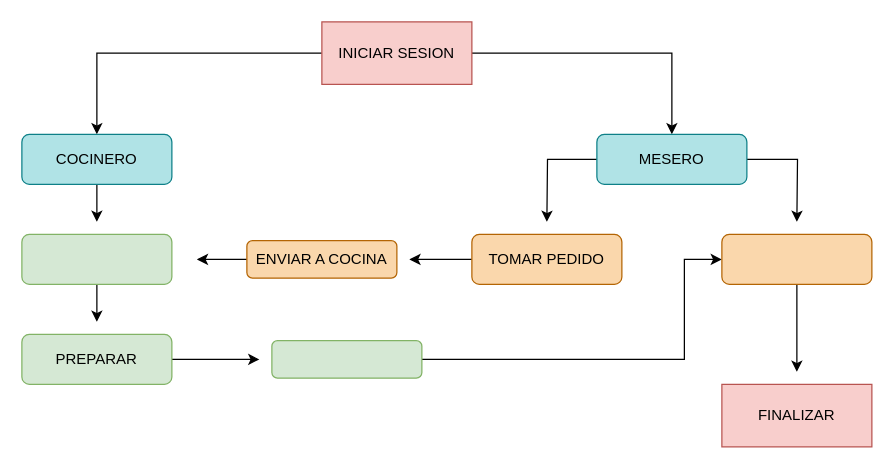
Image size: 894x469. Some labels were removed from this diagram. Here are the shapes that lost their labels. From the top down, the box of each, then its label:
(21, 233, 172, 284): ABRIR PEDIDO
(721, 233, 872, 284): SERVIR MESA
(271, 339, 422, 378): MARCAR COMO REALIZADO
